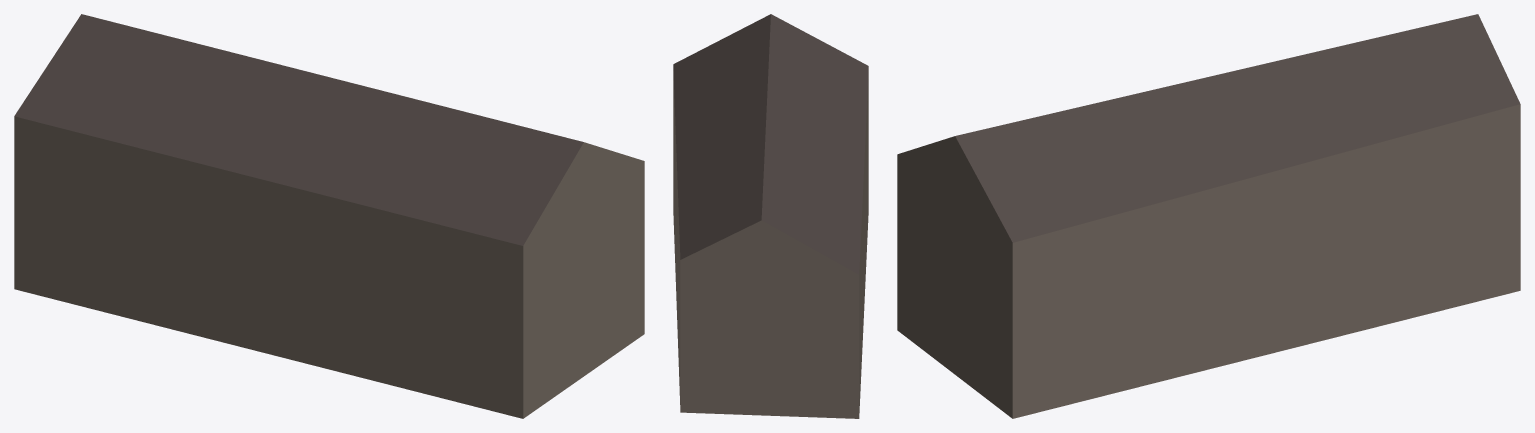
3 views of the same model, side by side, from view 1: azimuth 30°, elevation 25°; view 2: azimuth 150°, elevation 25°; view 3: azimuth 270°, elevation 25° (orthographic). The views are drawn at different scales.
Visible parts, largest first — view 1: HP-w505646893; view 2: HP-w505646893; view 3: HP-w505646893.
Boxes of the visible parts, x1=… form: HP-w505646893: x1=14, y1=14, x2=644, y2=418; HP-w505646893: x1=673, y1=14, x2=868, y2=418; HP-w505646893: x1=897, y1=14, x2=1520, y2=418.
Bounding box in the file's own units: 23.26 × 12.2 × 28.87.
